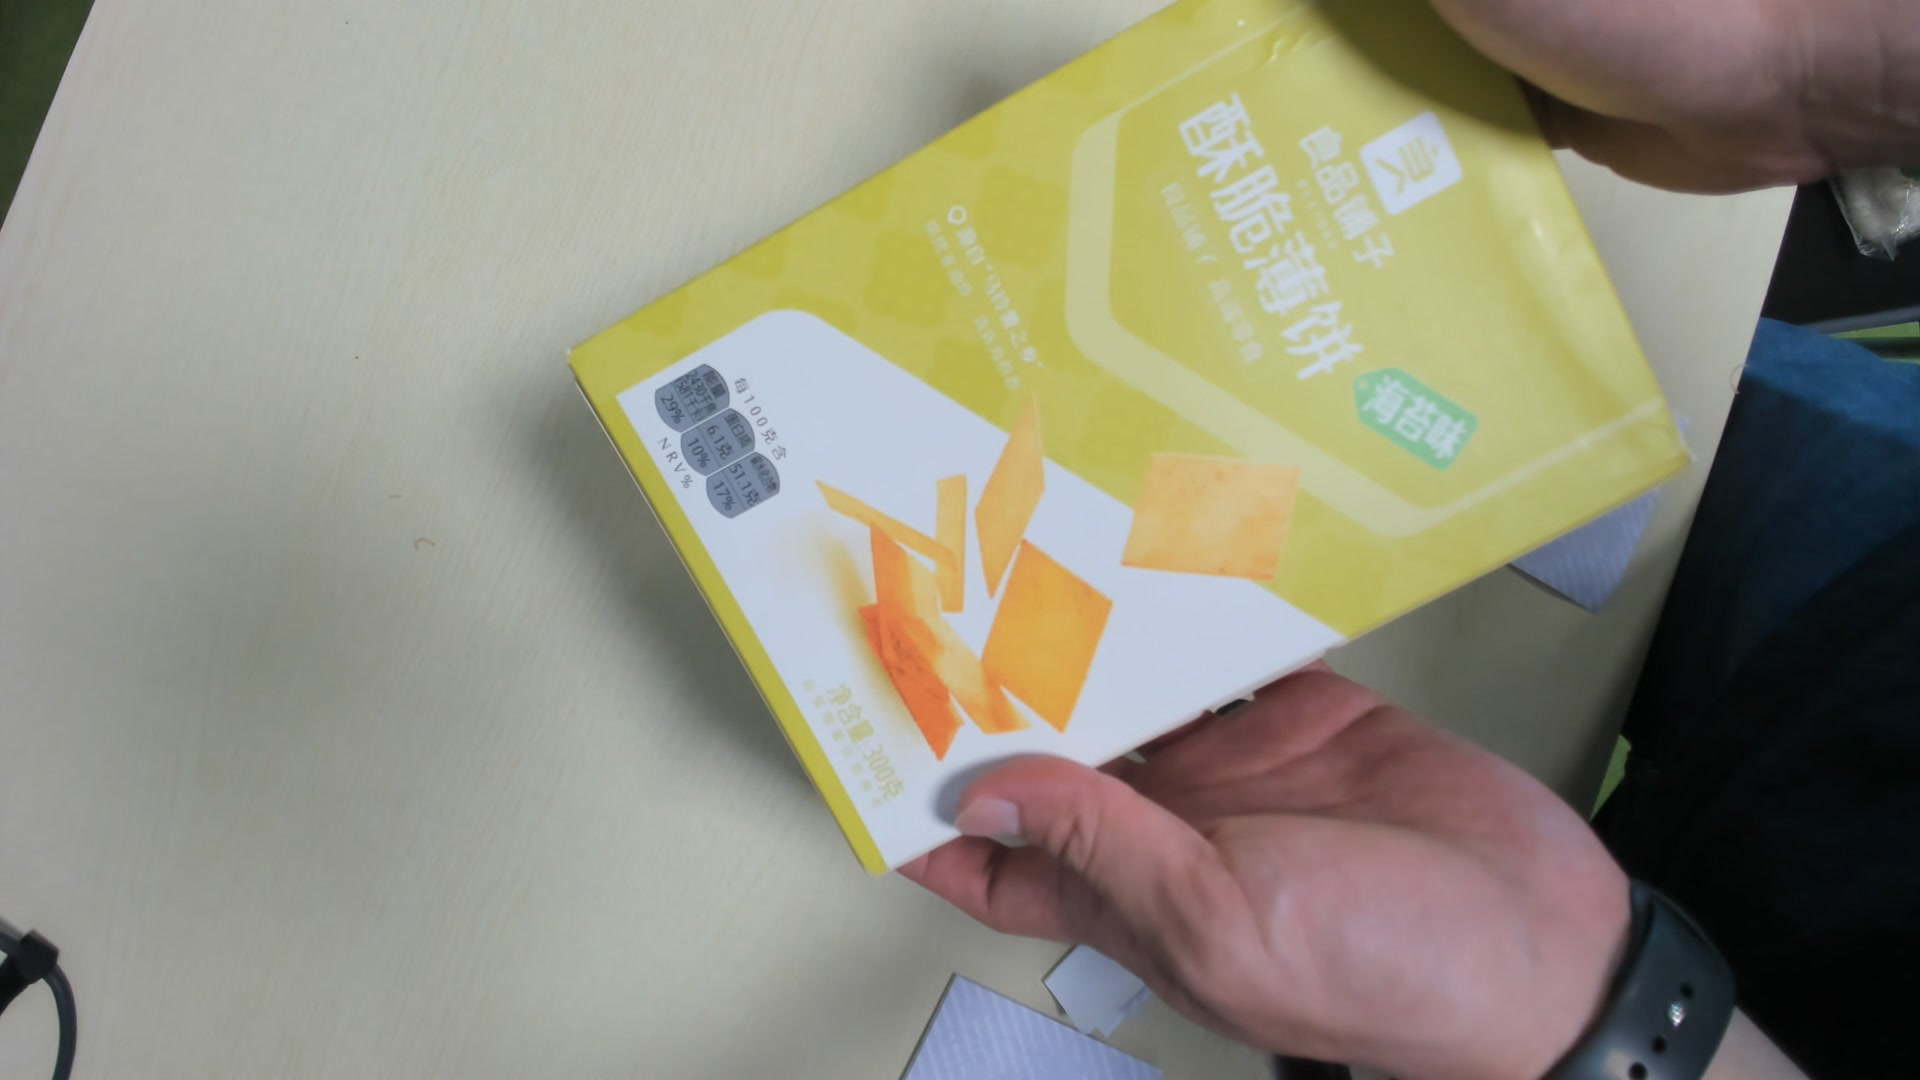BiscuitsCrackersCookies_300-399g_Halal_NonHealthy: (563, 3, 1695, 880)
